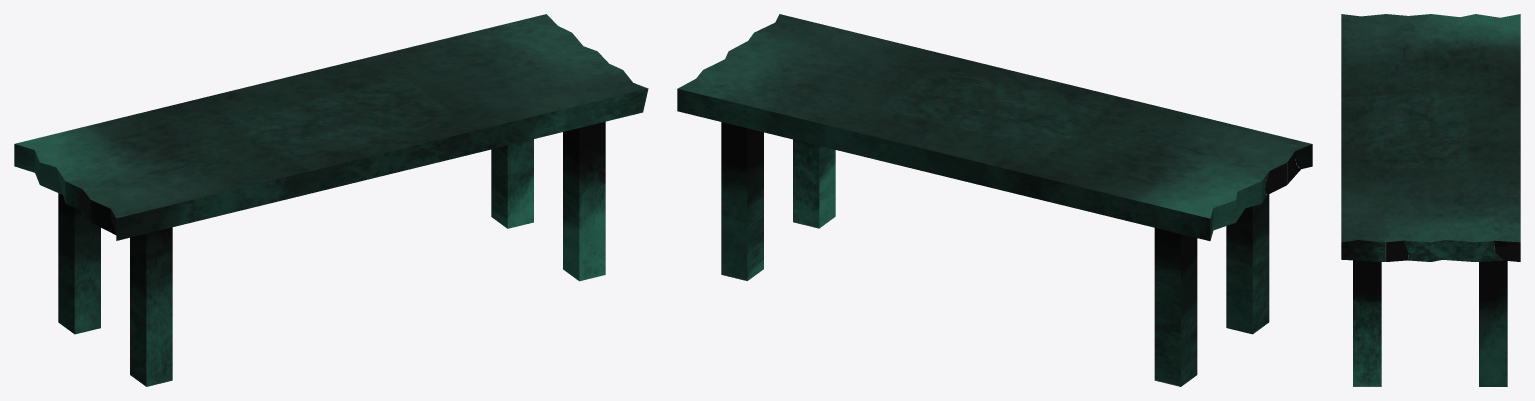
File: mesa malvada.fbx
3 views of the same model, side by side, from view 1: azimuth 30°, elevation 25°; view 2: azimuth 150°, elevation 25°; view 3: azimuth 270°, elevation 25° (orthographic). The views are drawn at different scales.
Parts seen in each view (by area): view 1: mesa_Malvada; view 2: mesa_Malvada; view 3: mesa_Malvada.
Part boxes in pixels (x1=…): mesa_Malvada: x1=14, y1=14, x2=648, y2=386; mesa_Malvada: x1=677, y1=14, x2=1312, y2=386; mesa_Malvada: x1=1341, y1=14, x2=1520, y2=386.
Bounding box in the file's own units: 2690 × 880 × 893.
Materials: 2 (2 with a texture image).
